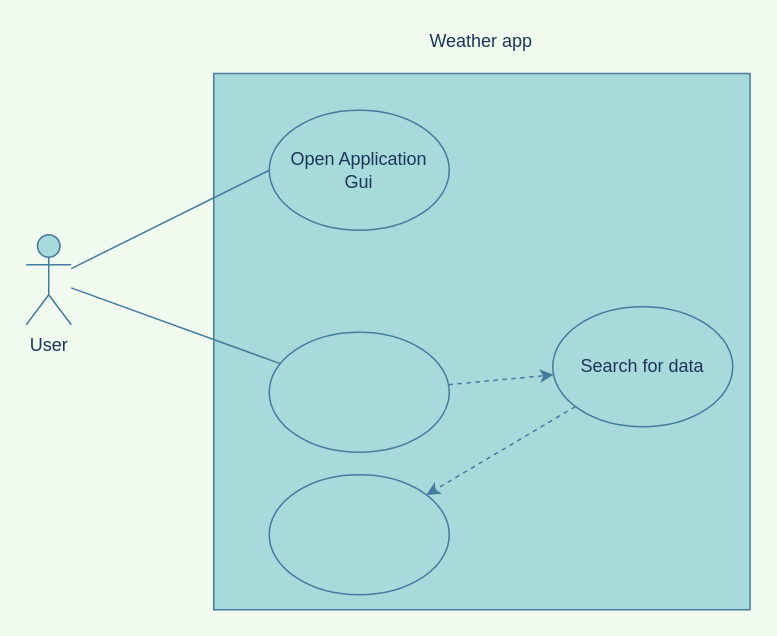
Image size: 777x636. Some labels were removed from this diagram. The centre of each missing label's shape, as x and y in pixels:
Enter a city name and press search: [358,391]
Refresh GUI with new data: [358,534]
